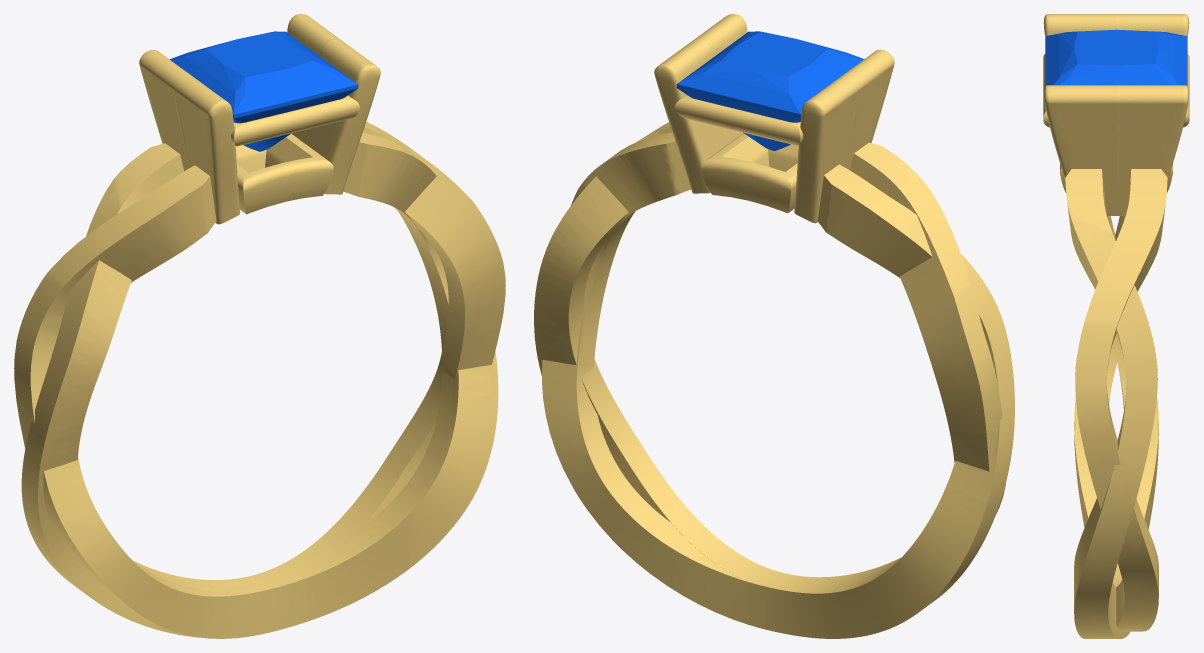
File: bluesapphire-princess-yellowgold-halfmoonbezel-twist-nosidestones.glb
3 renders of one model, left to right at view 1: azimuth 30°, elevation 25°; view 2: azimuth 150°, elevation 25°; view 3: azimuth 270°, elevation 25°, orthographic.
Visible parts, largest first — view 1: metal.003, stone; view 2: metal.003, stone; view 3: metal.003, stone.
Boxes of the visible parts, bbox=[...] form: metal.003: bbox=[14, 14, 505, 638]; stone: bbox=[170, 31, 358, 151]; metal.003: bbox=[534, 14, 1014, 638]; stone: bbox=[676, 31, 864, 150]; metal.003: bbox=[1043, 14, 1189, 638]; stone: bbox=[1045, 29, 1187, 86].
Size of the model in its own units: 19.97 by 23.76 by 5.6.
